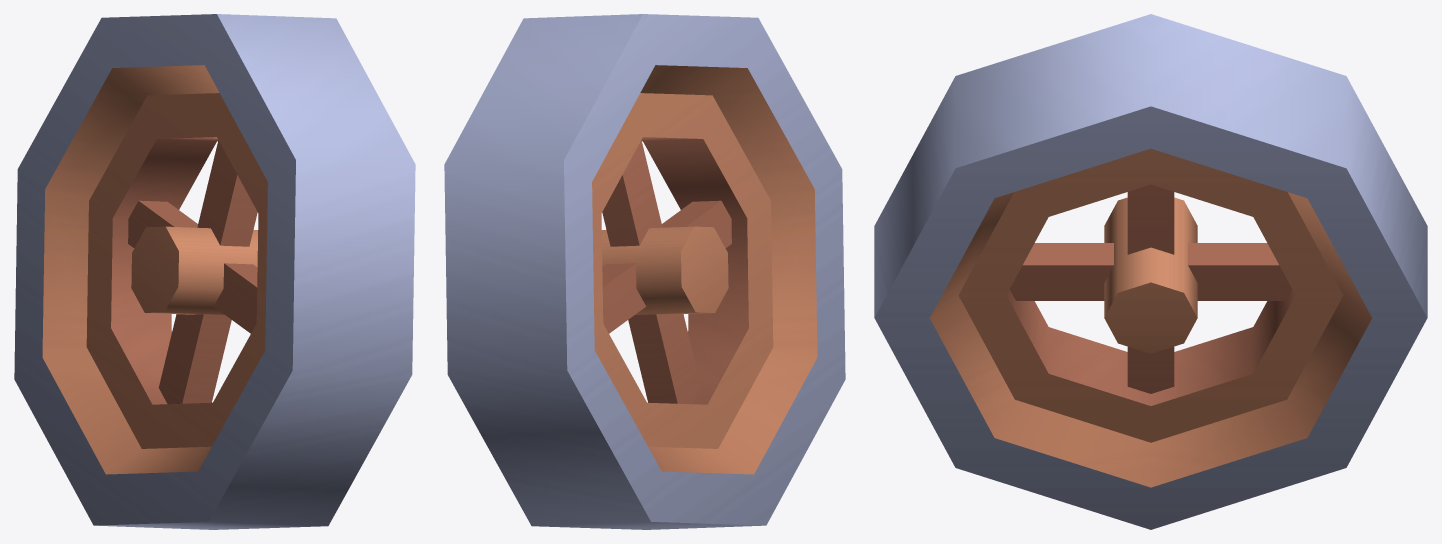
The model's file is wheel.fbx.
The picture shows the model from 3 angles, left to right: view 1: azimuth 30°, elevation 25°; view 2: azimuth 150°, elevation 25°; view 3: azimuth 270°, elevation 25°; orthographic projection.
Visible parts, largest first — view 1: wheel; view 2: wheel; view 3: wheel.
Part boxes in pixels (<box>): wheel: <box>14,14,415,529</box>; wheel: <box>444,14,845,529</box>; wheel: <box>874,14,1427,529</box>.
Bounding box in the file's own units: 23.84 × 48.33 × 46.78.
1 material, 1 textured.
